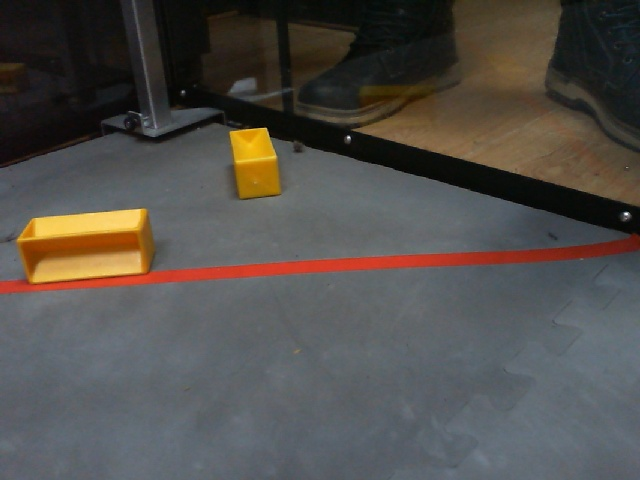YellowSample: (12, 204, 162, 285), (222, 126, 286, 207)
